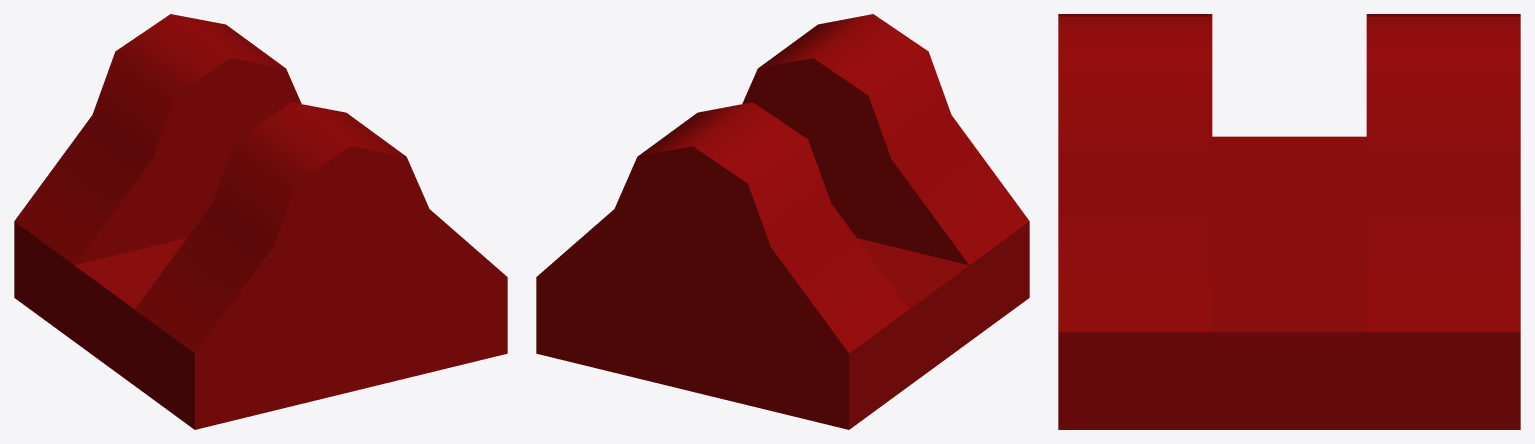
File: SM_Actuator_1x1x1_Bottom.gltf
3 renders of one model, left to right at view 1: azimuth 30°, elevation 25°; view 2: azimuth 150°, elevation 25°; view 3: azimuth 270°, elevation 25°, orthographic. The views are drawn at different scales.
Visible parts, largest first — view 1: SM_Actuator_1x1x1_Bottom; view 2: SM_Actuator_1x1x1_Bottom; view 3: SM_Actuator_1x1x1_Bottom.
Boxes of the visible parts, left/top/right/bottom form: SM_Actuator_1x1x1_Bottom: left=14, top=14, right=507, bottom=429; SM_Actuator_1x1x1_Bottom: left=536, top=14, right=1029, bottom=429; SM_Actuator_1x1x1_Bottom: left=1058, top=14, right=1520, bottom=429.
Bounding box in the file's own units: 0.3 × 0.225 × 0.3.
